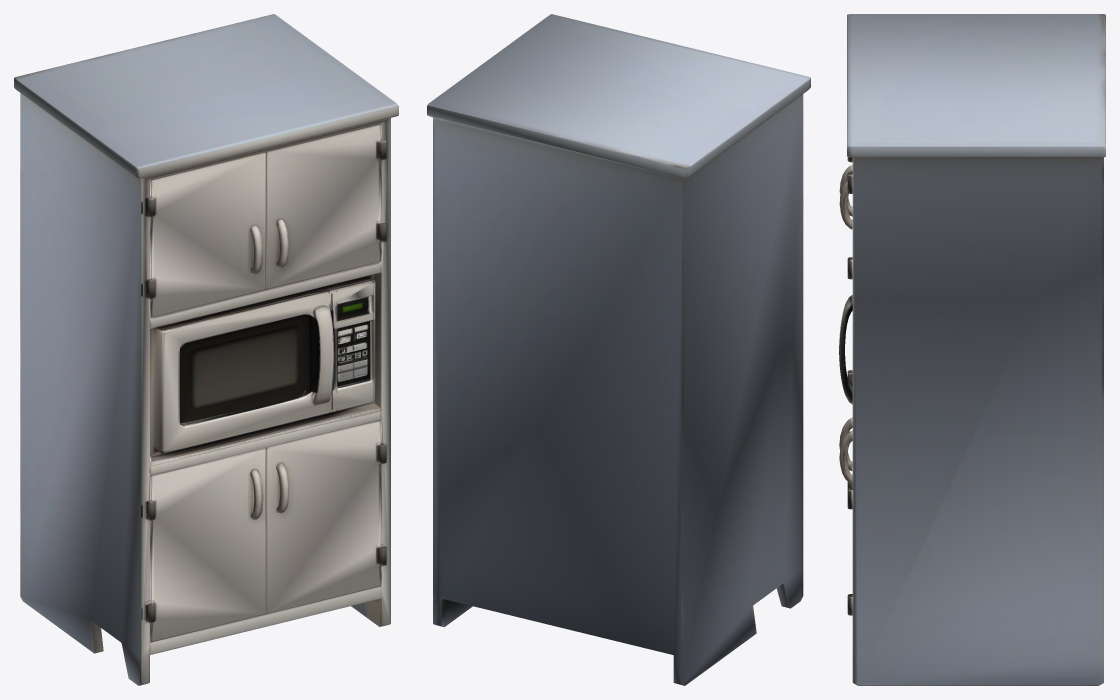
The model's file is microwave_cabinet_everyday_realistic_style_434ef68a_v4.glb.
The picture shows the model from 3 angles, left to right: view 1: azimuth 30°, elevation 25°; view 2: azimuth 150°, elevation 25°; view 3: azimuth 270°, elevation 25°; orthographic projection. The views are drawn at different scales.
Parts seen in each view (by area): view 1: mesh_input; view 2: mesh_input; view 3: mesh_input.
Part boxes in pixels (x1=…): mesh_input: x1=14, y1=14, x2=398, y2=685; mesh_input: x1=427, y1=14, x2=810, y2=685; mesh_input: x1=839, y1=14, x2=1105, y2=685.
Bounding box in the file's own units: 0.9922 × 1.9 × 0.8457.
1 material, 1 textured.
